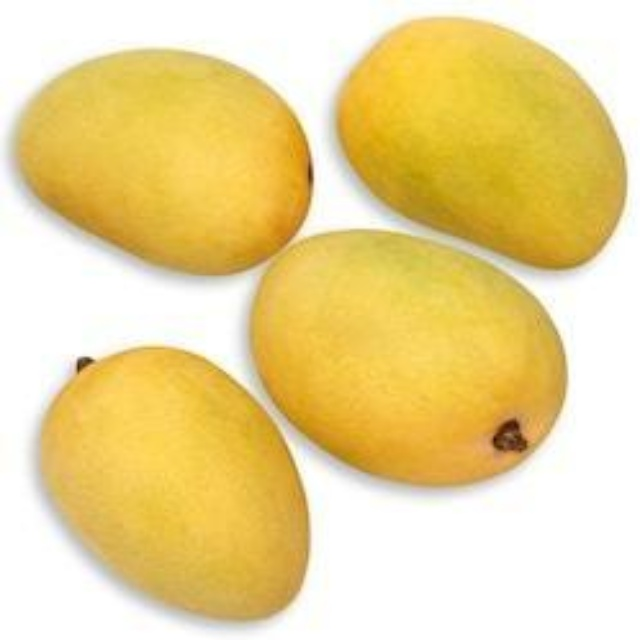mango: (248, 231, 573, 482), (38, 347, 306, 618), (340, 17, 628, 261), (16, 50, 315, 276)
